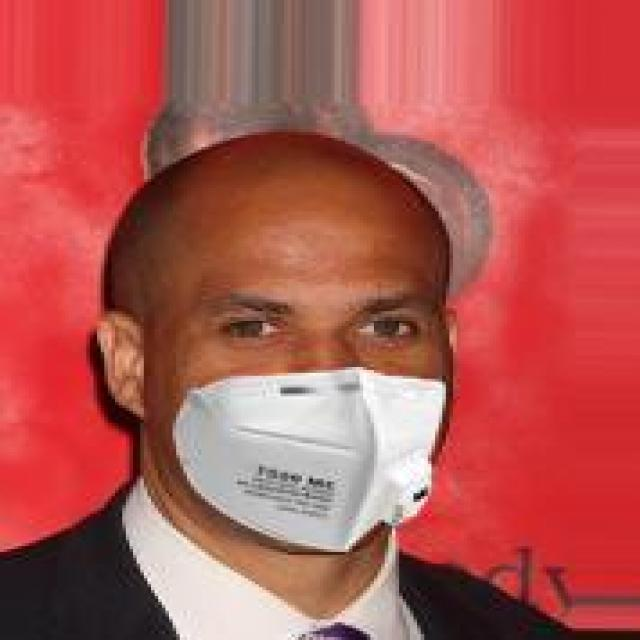mask: (133, 123, 500, 546)
